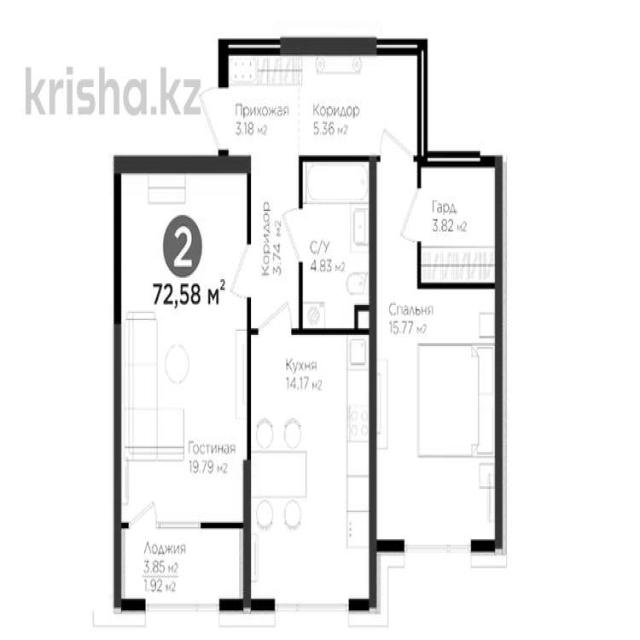balcony: (113, 525, 249, 605)
bathroom: (301, 160, 374, 333)
hallway: (299, 50, 423, 160), (225, 45, 301, 164), (248, 169, 301, 332)
kitchen: (246, 332, 373, 608)
living_room: (119, 171, 245, 522), (376, 286, 499, 546)
other: (419, 162, 499, 287)
